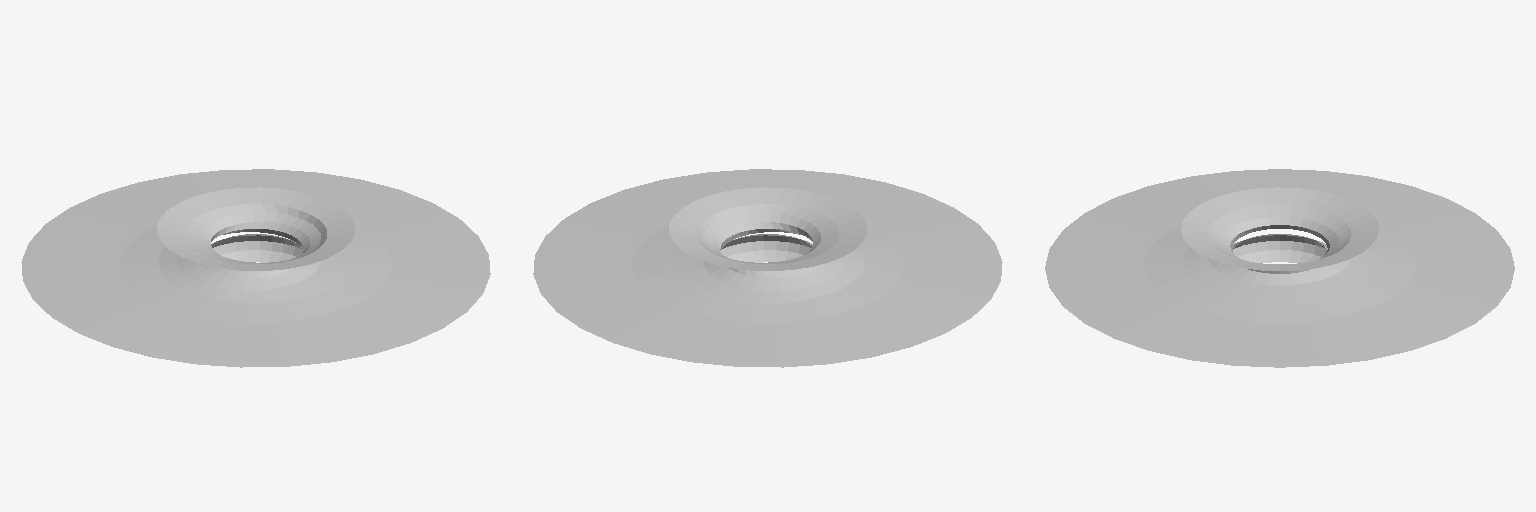
File: TornadoMeshes02.obj
3 renders of one model, left to right at view 1: azimuth 30°, elevation 25°; view 2: azimuth 150°, elevation 25°; view 3: azimuth 270°, elevation 25°, orthographic.
Parts seen in each view (by area): view 1: TornadoBody02, TornadoRing02; view 2: TornadoBody02, TornadoRing02; view 3: TornadoBody02, TornadoRing02.
Boxes of the visible parts, box(x1,y1,x2,y2) form: TornadoBody02: box(21, 169, 490, 367); TornadoRing02: box(211, 234, 302, 262); TornadoBody02: box(533, 169, 1002, 367); TornadoRing02: box(721, 234, 812, 262); TornadoBody02: box(1045, 169, 1514, 367); TornadoRing02: box(1232, 234, 1327, 262).
Size of the model in its own units: 31.66 by 3.96 by 31.66.